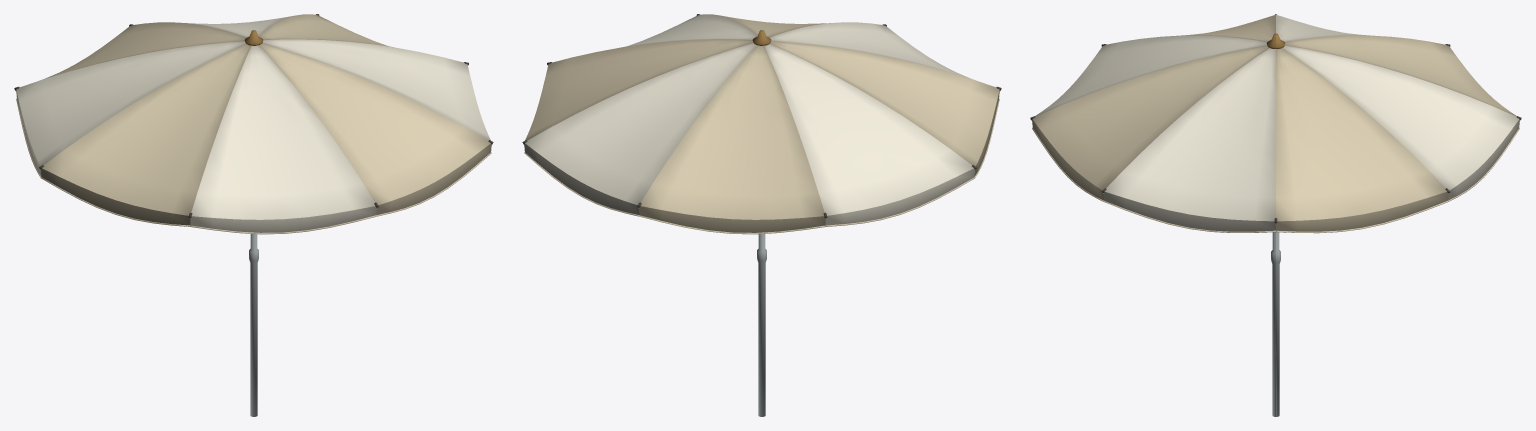
Rendered from canvas-beach-parasol.glb.
3 renders of one model, left to right at view 1: azimuth 30°, elevation 25°; view 2: azimuth 150°, elevation 25°; view 3: azimuth 270°, elevation 25°, orthographic.
Parts seen in each view (by area): view 1: Frame; view 2: Frame; view 3: Frame.
Part boxes in pixels (<box>): Frame: <box>14,14,493,416</box>; Frame: <box>522,14,1001,416</box>; Frame: <box>1030,14,1521,416</box>.
Bounding box in the file's own units: 2.7 × 2.31 × 2.7.
